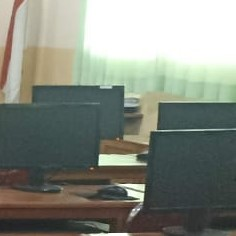monitor: (142, 129, 236, 213), (0, 103, 101, 171), (137, 101, 236, 163), (31, 84, 125, 140), (156, 101, 235, 130)
